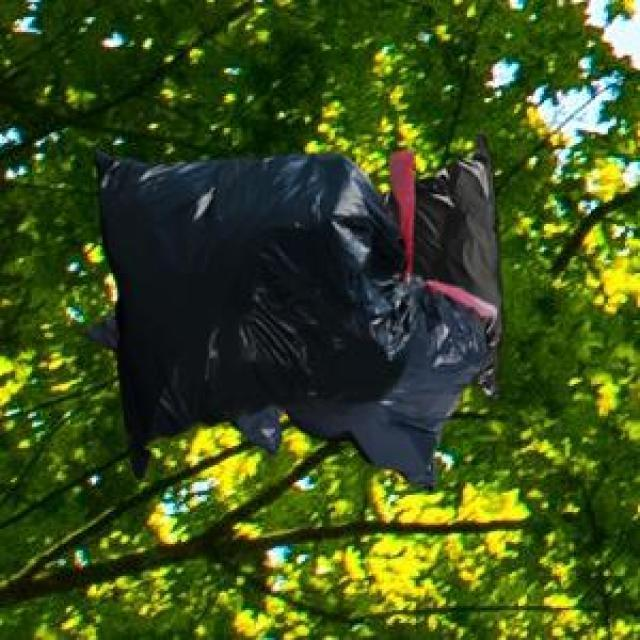Vinyl: (99, 146, 501, 486)
